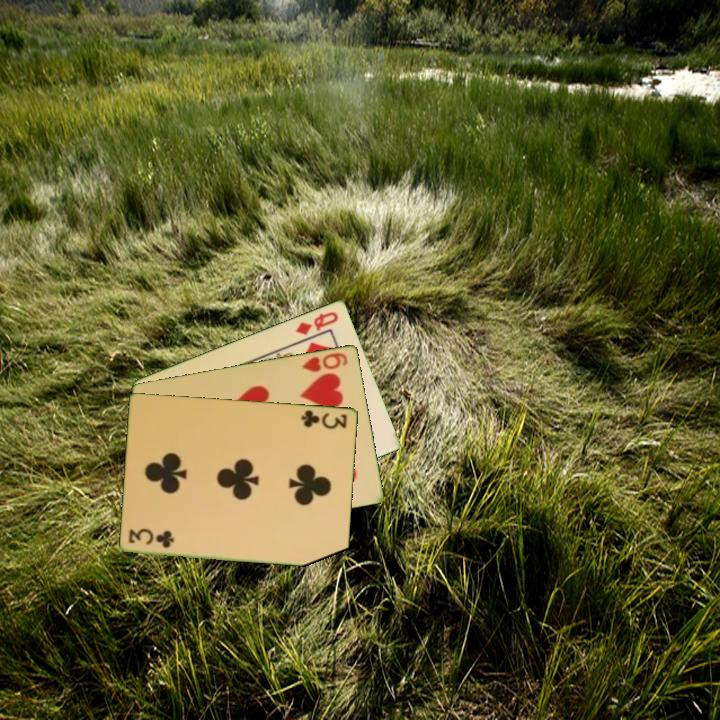3c: (298, 406, 350, 431), (125, 527, 177, 551)
6h: (298, 349, 351, 375)
Qd: (292, 308, 341, 337)
